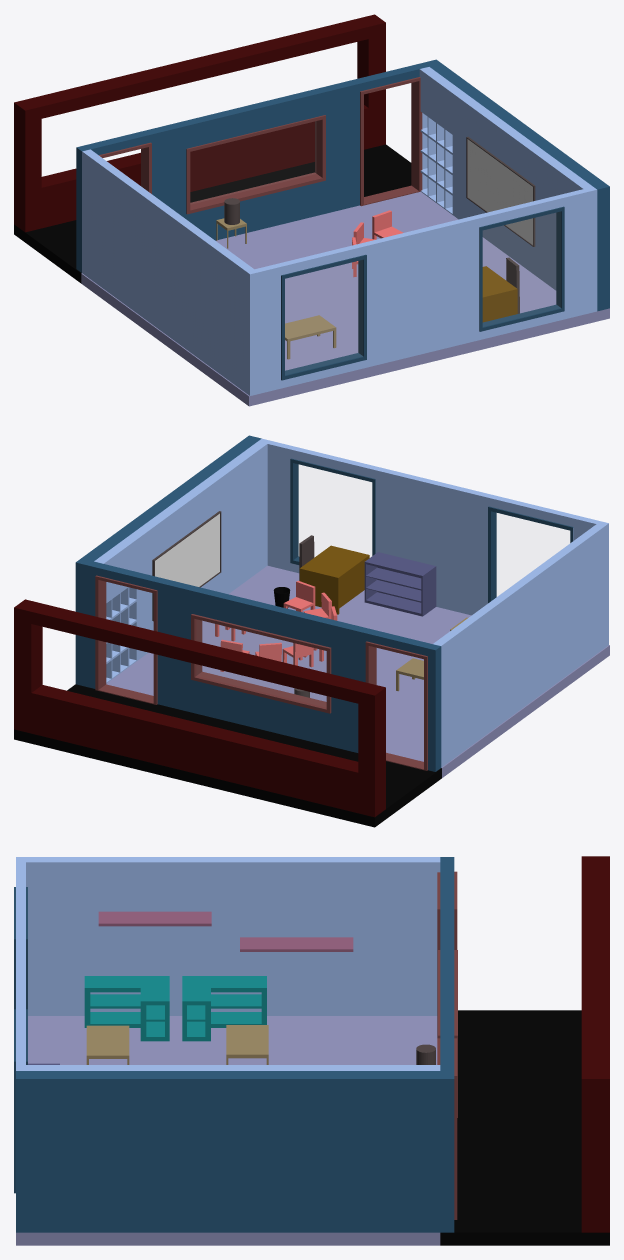
3 views of the same model, one above another, from view 1: azimuth 30°, elevation 25°; view 2: azimuth 150°, elevation 25°; view 3: azimuth 270°, elevation 25° (orthographic). The views are drawn at different scales.
Parts seen in each view (by area): view 1: inner wall_28, walkway wall_30, outer wall_29, floor_24, walkway floor_25, whiteboard_10, windowframe3_34, window frame1_35, doorframe1_26, window frame2_36, desk_19, table_1 (+3 smaller); view 2: inner wall_28, walkway wall_30, outer wall_29, floor_24, walkway floor_25, bookshelf_5, desk_19, whiteboard_10, windowframe3_34, doorframe1_26, window frame2_36, doorframe2_27 (+2 smaller); view 3: outer wall_29, inner wall_28, walkway floor_25, floor_24, walkway wall_30, toyshelf_20, toyshelf.001_21, shelf1_7, shelf2_8, table_1, table.001_2, doorframe1_26 (+2 smaller).
Part boxes in pixels (x1,y1,x2,y2): inner wall_28: (82, 67, 597, 395); walkway wall_30: (14, 14, 385, 232); outer wall_29: (76, 59, 609, 311); floor_24: (81, 191, 609, 406); walkway floor_25: (14, 144, 411, 283); whiteboard_10: (467, 139, 532, 244); windowframe3_34: (186, 115, 325, 214); window frame1_35: (281, 254, 366, 380); doorframe1_26: (360, 77, 422, 206); window frame2_36: (479, 206, 564, 331); desk_19: (482, 266, 517, 322); table_1: (285, 315, 336, 359); inner wall_28: (94, 438, 608, 767); walkway wall_30: (14, 599, 385, 817); outer wall_29: (75, 435, 441, 771); floor_24: (106, 565, 609, 777); walkway floor_25: (14, 684, 441, 827); bookshelf_5: (364, 552, 436, 616); desk_19: (299, 545, 369, 614); whiteboard_10: (155, 513, 219, 586); windowframe3_34: (191, 614, 331, 713); doorframe1_26: (95, 575, 157, 704); window frame2_36: (290, 458, 375, 564); doorframe2_27: (365, 641, 427, 770); outer wall_29: (16, 857, 454, 1232); inner wall_28: (16, 857, 440, 1070); walkway floor_25: (440, 1010, 609, 1245); floor_24: (16, 1016, 440, 1245); walkway wall_30: (581, 856, 609, 1232); toyshelf_20: (84, 976, 169, 1041); toyshelf.001_21: (182, 976, 266, 1041); shelf1_7: (98, 911, 211, 926); shelf2_8: (240, 937, 353, 951); table_1: (86, 1025, 129, 1064); table.001_2: (226, 1025, 268, 1064); doorframe1_26: (437, 1038, 457, 1219).
Bounding box in the file's own units: 18.61 × 6.5 × 21.07.
